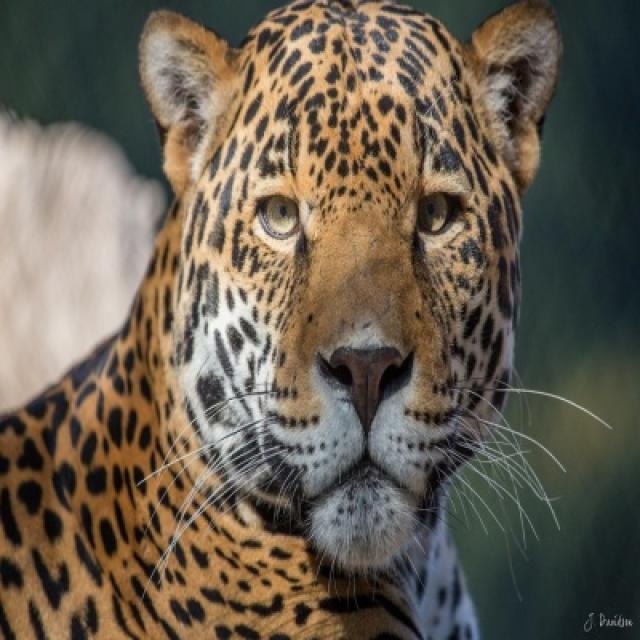Jaguar: (0, 0, 565, 638)
